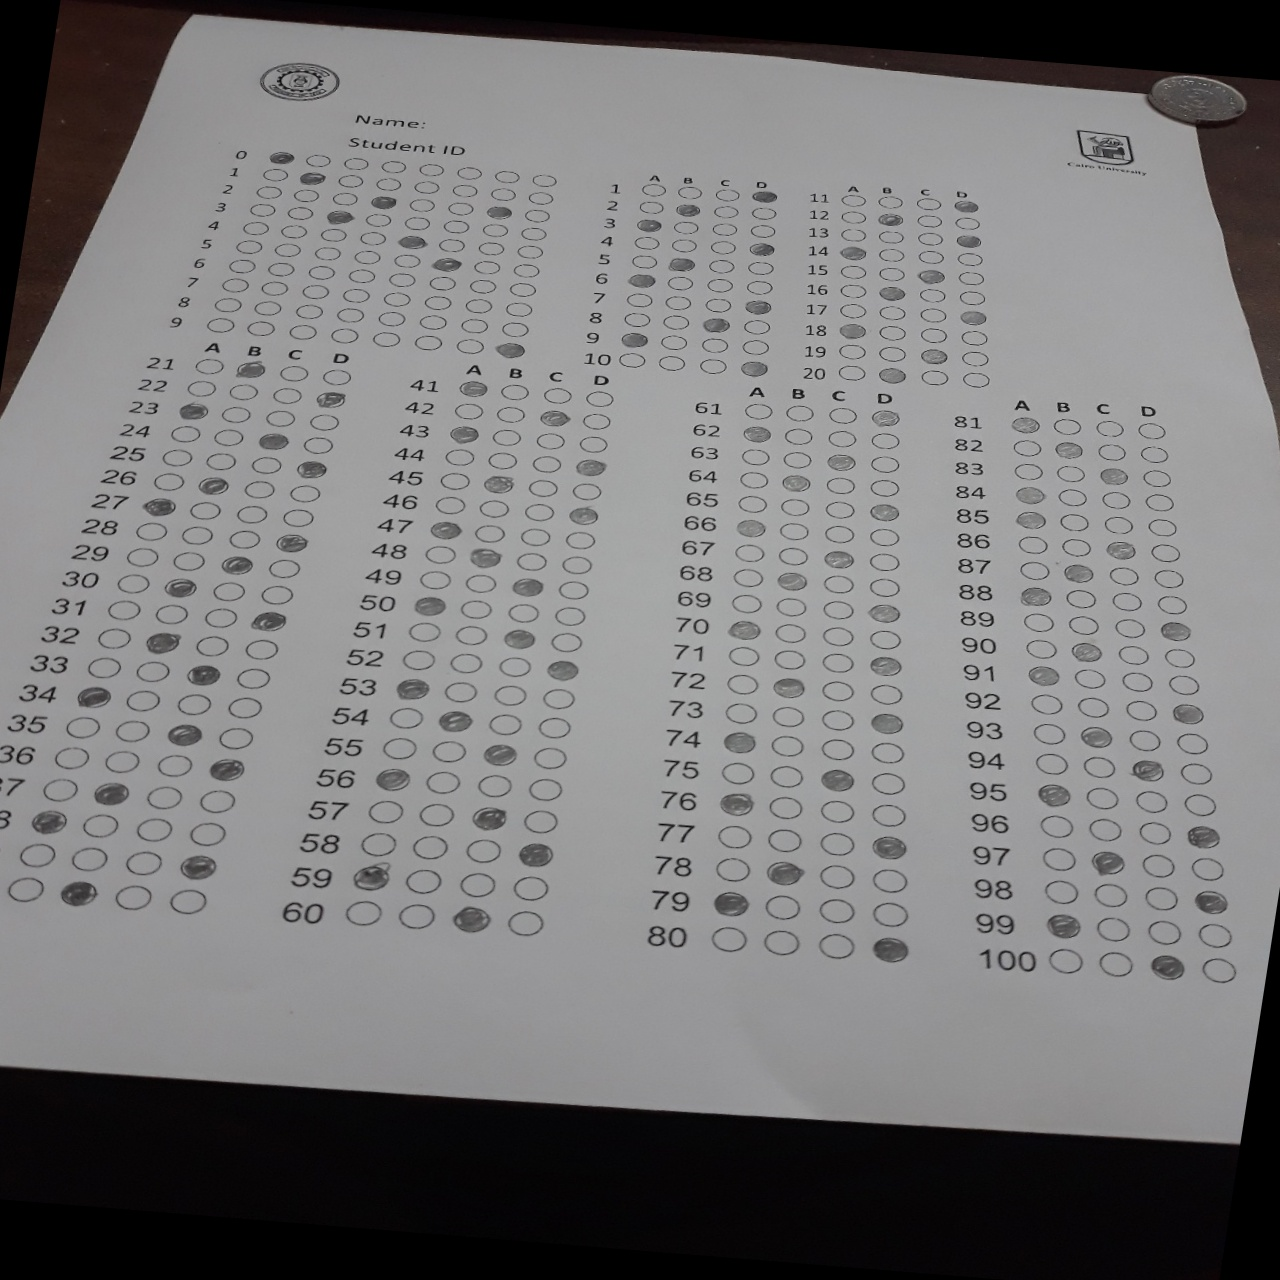not-c: (40, 774, 83, 805), (168, 883, 211, 914), (402, 865, 445, 897), (409, 830, 452, 862), (416, 796, 459, 828), (366, 796, 409, 828), (358, 828, 401, 859), (463, 833, 506, 865), (524, 772, 567, 804), (475, 768, 518, 799), (79, 811, 123, 842), (101, 744, 145, 775), (455, 869, 499, 899), (49, 741, 91, 772), (1117, 692, 1160, 722), (68, 844, 111, 874), (123, 847, 166, 878), (110, 880, 154, 911), (8, 872, 52, 903), (393, 900, 436, 931), (508, 872, 551, 903), (502, 907, 545, 938), (422, 765, 465, 796), (18, 838, 60, 869), (342, 897, 384, 927), (519, 804, 561, 835), (1039, 878, 1082, 906), (1081, 783, 1124, 811), (1067, 662, 1110, 690), (1115, 666, 1158, 694), (816, 930, 857, 959), (1139, 917, 1182, 945), (1042, 947, 1084, 975), (1089, 881, 1131, 910), (1084, 815, 1126, 843), (1027, 719, 1069, 747), (1021, 688, 1063, 716), (1108, 613, 1150, 641), (1061, 610, 1103, 638), (1017, 634, 1060, 662), (1036, 813, 1080, 840), (1055, 533, 1098, 560), (1094, 486, 1137, 513), (762, 892, 802, 921), (870, 899, 910, 928), (1194, 921, 1235, 949), (1095, 949, 1136, 978), (869, 866, 910, 894), (712, 855, 753, 883), (760, 928, 801, 956), (1091, 917, 1133, 944), (1133, 821, 1176, 847), (1078, 754, 1121, 781), (1030, 751, 1073, 778), (1015, 556, 1057, 583), (817, 896, 857, 924), (710, 922, 750, 951), (1058, 584, 1102, 610), (1199, 956, 1240, 983), (1141, 885, 1182, 912), (1136, 851, 1177, 878), (1130, 785, 1171, 812), (1122, 726, 1163, 753), (1070, 693, 1111, 720), (1017, 607, 1058, 634), (1051, 508, 1092, 535), (1034, 846, 1076, 872), (1012, 530, 1054, 556), (1053, 482, 1095, 508), (1088, 414, 1130, 440), (547, 626, 587, 653), (1097, 510, 1138, 536), (1088, 440, 1129, 465), (199, 604, 240, 629), (135, 815, 176, 840), (113, 570, 152, 595), (211, 577, 251, 602), (192, 632, 232, 658), (428, 738, 468, 764), (529, 743, 568, 769), (535, 716, 574, 742), (490, 680, 530, 706), (440, 679, 479, 704), (384, 704, 424, 730), (447, 648, 486, 674), (454, 621, 493, 647), (503, 599, 543, 625), (257, 583, 298, 607), (152, 601, 193, 626), (241, 636, 282, 661), (230, 665, 271, 689), (132, 658, 173, 682), (224, 694, 265, 719), (215, 724, 256, 749), (155, 751, 196, 776), (196, 789, 237, 813), (186, 821, 227, 845), (511, 549, 552, 573), (522, 474, 563, 498), (529, 427, 570, 451), (1176, 760, 1214, 785), (540, 686, 579, 712), (485, 709, 524, 735), (399, 645, 437, 670), (406, 618, 444, 644), (550, 602, 588, 628), (864, 679, 903, 704), (765, 730, 804, 756), (720, 760, 758, 785), (765, 794, 804, 819), (1101, 564, 1143, 587), (122, 543, 162, 567), (102, 597, 142, 621), (93, 626, 132, 651), (84, 655, 124, 680), (62, 715, 102, 740), (113, 719, 152, 743), (121, 687, 161, 712), (177, 692, 217, 716), (457, 595, 497, 620), (515, 524, 554, 549), (474, 495, 513, 519), (436, 469, 476, 493), (441, 445, 481, 470), (484, 448, 524, 472), (1141, 515, 1178, 540), (1149, 591, 1186, 617), (1191, 856, 1228, 881), (771, 621, 809, 647), (723, 700, 761, 726), (724, 672, 762, 697), (869, 768, 906, 794), (143, 785, 184, 809), (418, 542, 459, 565), (524, 450, 565, 474), (1051, 459, 1090, 484), (1012, 459, 1050, 484), (381, 735, 420, 760), (497, 654, 536, 679), (561, 529, 600, 553), (416, 566, 456, 590), (461, 571, 501, 594), (552, 578, 592, 601), (556, 552, 595, 576), (518, 499, 558, 523), (1133, 417, 1171, 442), (1137, 467, 1175, 491), (1149, 567, 1186, 592), (866, 625, 904, 649), (817, 649, 855, 674), (819, 678, 857, 702), (819, 707, 857, 731), (769, 703, 806, 728), (867, 738, 905, 763), (871, 802, 908, 826), (821, 830, 858, 855), (765, 828, 803, 852), (715, 823, 753, 847), (1111, 644, 1155, 665), (1103, 588, 1144, 611), (485, 423, 526, 445), (1049, 413, 1088, 436), (1007, 436, 1046, 459), (767, 763, 805, 787), (1133, 442, 1170, 467), (1139, 491, 1176, 516), (1144, 540, 1180, 565), (1160, 644, 1197, 668), (1166, 672, 1203, 696), (1182, 791, 1218, 816), (818, 622, 855, 647), (818, 862, 855, 886), (468, 520, 508, 543), (430, 492, 470, 515), (564, 478, 604, 501), (166, 422, 204, 445), (821, 736, 858, 760), (817, 799, 855, 823), (1173, 730, 1208, 755), (572, 431, 611, 454), (217, 401, 252, 424), (134, 520, 172, 542), (159, 445, 197, 467), (247, 452, 285, 474), (239, 478, 277, 499), (286, 482, 324, 503), (279, 506, 316, 527), (186, 501, 224, 522), (179, 524, 217, 545), (169, 549, 206, 570), (823, 404, 860, 425), (865, 452, 903, 474), (819, 599, 857, 620), (772, 544, 810, 565), (776, 519, 813, 540), (211, 425, 246, 448), (200, 451, 239, 471), (263, 557, 301, 577), (152, 470, 189, 491), (867, 429, 904, 450), (867, 477, 904, 498), (777, 448, 813, 469), (319, 365, 353, 387), (232, 503, 270, 523), (223, 529, 260, 549), (537, 386, 574, 406), (782, 403, 819, 423), (824, 427, 862, 447), (735, 468, 772, 488), (735, 447, 772, 467), (777, 425, 815, 445), (774, 496, 811, 516), (821, 499, 858, 519), (819, 524, 857, 544), (865, 550, 903, 570), (772, 595, 810, 615), (722, 647, 760, 667), (308, 411, 341, 434), (264, 406, 297, 428), (188, 376, 220, 399), (270, 383, 302, 406), (493, 404, 530, 424), (452, 400, 489, 420), (583, 388, 619, 408), (581, 410, 618, 430), (740, 400, 776, 420), (821, 474, 857, 493), (731, 493, 768, 513), (869, 576, 905, 595), (729, 594, 765, 614), (729, 567, 765, 587), (730, 542, 767, 561), (772, 651, 809, 670), (343, 264, 377, 285), (275, 363, 309, 384), (300, 434, 334, 455), (229, 382, 263, 403), (819, 573, 857, 592), (495, 382, 531, 401), (867, 527, 904, 546), (368, 329, 402, 349), (339, 284, 373, 304), (654, 352, 687, 372), (328, 325, 361, 345), (358, 226, 390, 246), (913, 229, 947, 247), (835, 189, 869, 207), (874, 302, 908, 321), (874, 264, 908, 282), (745, 203, 779, 222), (467, 275, 501, 294), (415, 312, 449, 331), (413, 159, 447, 178), (380, 290, 414, 308), (350, 246, 384, 265), (282, 203, 316, 222), (952, 250, 985, 268), (874, 244, 907, 263), (878, 343, 911, 362), (738, 316, 771, 335), (742, 278, 775, 297), (709, 202, 742, 220), (707, 237, 740, 256), (667, 234, 700, 253), (674, 182, 707, 200), (634, 196, 667, 215), (470, 257, 503, 275), (435, 236, 468, 254), (452, 161, 485, 179), (334, 306, 367, 325), (306, 263, 339, 281), (220, 275, 253, 294), (948, 215, 982, 232), (836, 302, 870, 320), (874, 324, 908, 341), (915, 326, 949, 343), (744, 258, 778, 275), (704, 256, 738, 273), (697, 356, 731, 374), (658, 334, 692, 352), (522, 188, 556, 205), (527, 170, 561, 188), (411, 333, 445, 350), (447, 181, 481, 198), (404, 196, 438, 213), (300, 151, 334, 169), (457, 315, 489, 334), (233, 236, 265, 254), (917, 285, 949, 302), (914, 248, 947, 266), (874, 191, 907, 209), (835, 263, 867, 280), (917, 305, 949, 322), (960, 350, 993, 368), (961, 369, 994, 387), (836, 363, 869, 381), (839, 342, 872, 360), (738, 338, 771, 355), (748, 220, 781, 238), (708, 219, 741, 237), (704, 275, 737, 293), (699, 335, 731, 353), (669, 217, 702, 234), (636, 181, 669, 198), (622, 291, 655, 308), (620, 308, 653, 326), (617, 349, 649, 367), (497, 320, 530, 338), (506, 279, 539, 297), (509, 260, 542, 278), (515, 243, 547, 260), (520, 206, 553, 224), (490, 166, 523, 184), (485, 184, 518, 202), (461, 297, 493, 314), (452, 338, 485, 355), (438, 217, 471, 234), (411, 177, 444, 195), (384, 271, 417, 288), (372, 175, 404, 192), (376, 156, 409, 173), (339, 154, 372, 171), (332, 170, 365, 188), (311, 245, 343, 263), (298, 282, 331, 300), (292, 302, 325, 320), (245, 319, 278, 336), (258, 279, 291, 297), (275, 222, 308, 239), (835, 280, 869, 297), (956, 328, 990, 345), (708, 185, 742, 202), (660, 294, 694, 311), (499, 300, 533, 316), (516, 225, 550, 241), (399, 215, 433, 231), (290, 186, 324, 203), (955, 268, 987, 286), (912, 211, 944, 229), (837, 207, 869, 225), (661, 312, 693, 329), (704, 295, 736, 313), (362, 210, 394, 227), (253, 183, 285, 200), (912, 195, 945, 211), (874, 227, 907, 244), (836, 225, 869, 241), (920, 368, 953, 384), (663, 273, 696, 290), (629, 234, 662, 251), (475, 239, 508, 256), (422, 293, 455, 309), (427, 275, 459, 292), (443, 198, 476, 215), (389, 252, 422, 268), (375, 309, 408, 326), (286, 324, 319, 340), (264, 259, 297, 275), (271, 240, 304, 257), (258, 166, 291, 183), (226, 257, 259, 273), (204, 315, 237, 332), (955, 288, 987, 305), (629, 252, 661, 268), (481, 222, 512, 238), (327, 190, 359, 206), (251, 299, 282, 315), (246, 200, 278, 217), (193, 358, 225, 374), (316, 226, 349, 241), (210, 297, 243, 312), (238, 219, 270, 234)
taken-c: (141, 627, 185, 658), (450, 903, 493, 933), (178, 851, 222, 881), (57, 878, 101, 908), (88, 777, 131, 808), (157, 572, 200, 602), (352, 862, 394, 892), (162, 719, 205, 748), (204, 753, 247, 782), (1042, 911, 1084, 940), (866, 832, 908, 862), (863, 595, 905, 625), (72, 682, 114, 712), (28, 805, 70, 835), (183, 660, 225, 689), (714, 789, 755, 818), (816, 764, 857, 794), (765, 673, 806, 702), (774, 566, 813, 595), (1148, 953, 1189, 981), (870, 935, 911, 964), (765, 857, 806, 885), (719, 727, 760, 755), (864, 652, 905, 680), (1087, 849, 1129, 876), (818, 544, 860, 571), (708, 890, 748, 918), (724, 615, 764, 644), (1192, 888, 1233, 915), (865, 709, 906, 736), (139, 493, 178, 520), (248, 607, 288, 633), (219, 551, 257, 578), (256, 427, 293, 454), (313, 384, 350, 411), (1023, 665, 1064, 689), (270, 529, 308, 554), (230, 356, 268, 382), (1067, 638, 1107, 662), (516, 842, 553, 867), (1006, 506, 1047, 530), (1014, 584, 1055, 607), (1034, 783, 1075, 806), (1047, 435, 1085, 459), (1155, 619, 1194, 642), (1102, 538, 1142, 561), (1003, 410, 1043, 434), (1058, 560, 1098, 584), (1068, 638, 1108, 661), (1184, 824, 1224, 847), (374, 765, 411, 790), (469, 806, 506, 831), (195, 472, 232, 497), (293, 457, 331, 482), (1090, 464, 1131, 486), (1006, 485, 1046, 508), (1169, 702, 1208, 724), (1126, 757, 1166, 779), (1075, 726, 1115, 748), (445, 421, 481, 445), (175, 399, 213, 421), (428, 517, 462, 542), (734, 516, 769, 539), (738, 422, 774, 445), (573, 456, 608, 479), (468, 545, 503, 568), (509, 574, 544, 598), (411, 593, 447, 617), (484, 742, 519, 765), (869, 406, 903, 429), (568, 503, 602, 526), (455, 377, 489, 401), (438, 707, 472, 730), (778, 471, 813, 493), (867, 499, 903, 522), (537, 406, 572, 428), (545, 658, 580, 680), (395, 675, 430, 697), (824, 451, 858, 474), (481, 472, 515, 495), (502, 628, 536, 651), (877, 365, 908, 384), (482, 203, 515, 222), (747, 240, 779, 259), (836, 243, 869, 261), (874, 282, 907, 301), (295, 166, 327, 185), (324, 207, 355, 226), (431, 256, 463, 274), (493, 339, 525, 358), (619, 331, 651, 349), (626, 271, 658, 290), (632, 215, 663, 233), (738, 358, 770, 376), (876, 209, 907, 227), (913, 267, 945, 286), (953, 196, 985, 215), (366, 193, 399, 211), (393, 233, 425, 251), (665, 253, 697, 271), (699, 315, 731, 333), (835, 321, 867, 339), (958, 307, 990, 325), (953, 232, 983, 251), (267, 149, 299, 166), (672, 199, 703, 217), (747, 186, 778, 204), (918, 347, 949, 365), (742, 297, 772, 314)
